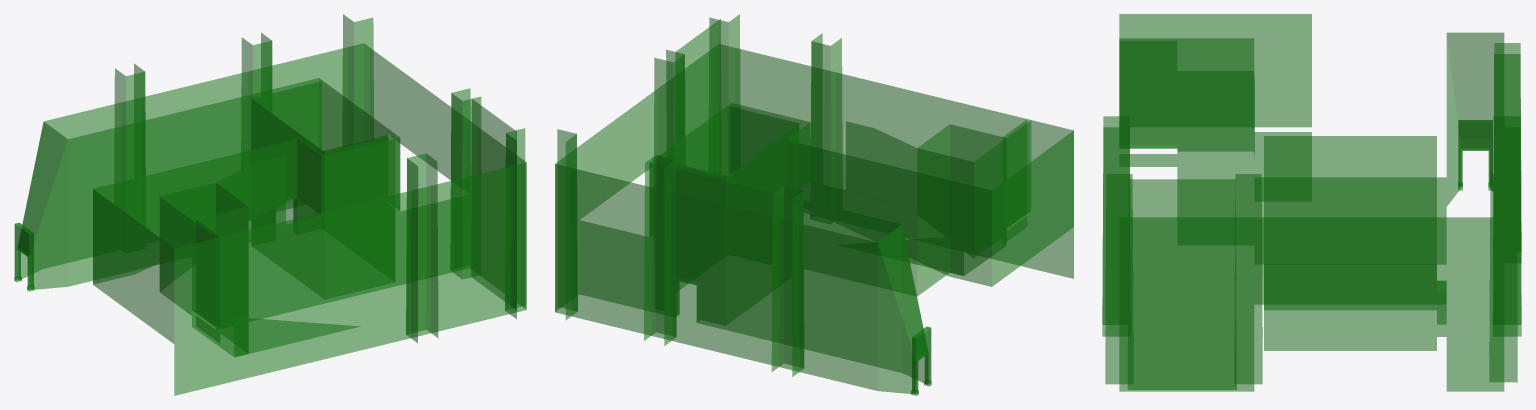
The model's file is wall_A04.obj.
3 renders of one model, left to right at view 1: azimuth 30°, elevation 25°; view 2: azimuth 150°, elevation 25°; view 3: azimuth 270°, elevation 25°, orthographic. The views are drawn at different scales.
Bounding box in the file's own units: 50.93 × 24.18 × 43.57.
